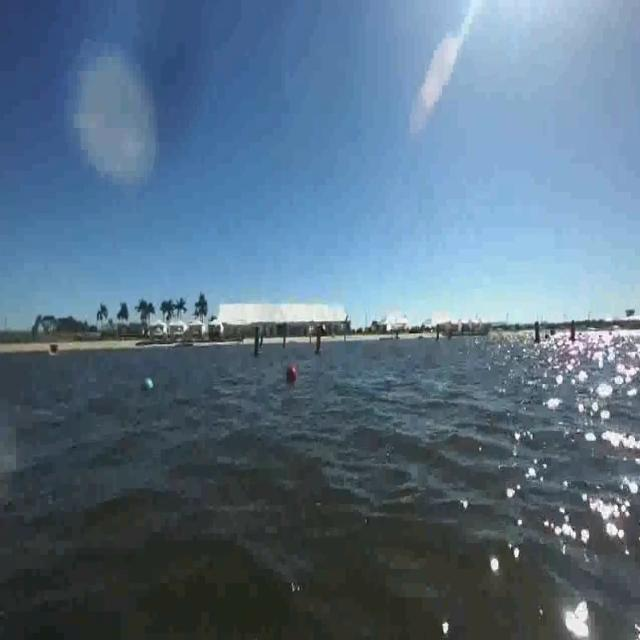green-buoy: (140, 374, 156, 394)
green-column-buoy: (250, 323, 262, 359)
red-buoy: (286, 366, 297, 383)
